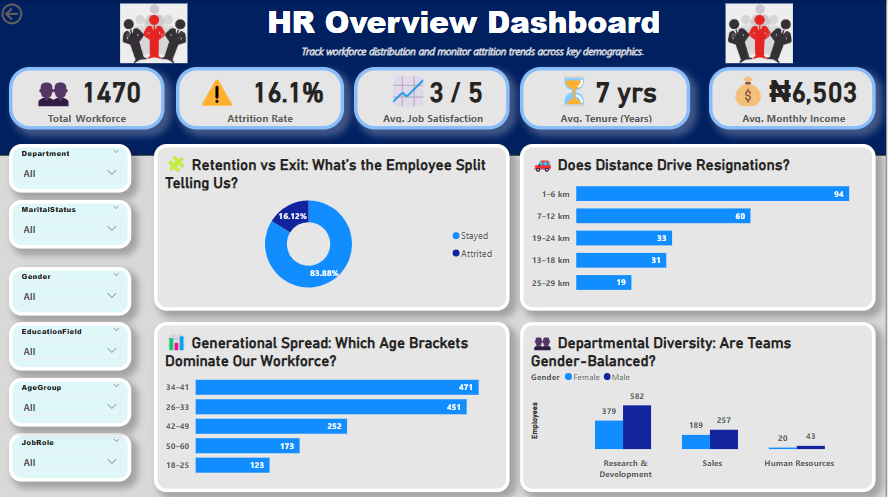

What the dashboard file says about the page in this screenshot:
{"tool":"powerbi","page":{"name":"Workforce Overview","canvas":[1280,720],"ordinal":0},"visuals":[{"type":"card","fields":{"Values":["HR Analytics Data.Total_Workforce"]},"box":[16,96,224,90],"z":0},{"type":"card","fields":{"Values":["HR Analytics Data.Avg_MonthlyIncome_Formatted"]},"box":[1024,96,240,90],"z":1000},{"type":"card","fields":{"Values":["HR Analytics Data.Avg_JobSatisfaction_Formatted"]},"box":[512,96,224,90],"z":2000},{"type":"card","fields":{"Values":["HR Analytics Data.Avg_YearsAtCompany_Formatted"]},"box":[752,96,245,90],"z":3000},{"type":"card","fields":{"Values":["HR Analytics Data.Attrition_Rate_Formatted"]},"box":[256,96,242,90],"z":4000},{"type":"donutChart","title":"🧩 Retention vs Exit: What’s the Employee Split Telling Us?","fields":{"Y":["Sum(HR Analytics Data.EmployeeCount)"],"Category":["HR Analytics Data.AttritionStatus"]},"box":[224,208,512,240],"z":5000},{"type":"clusteredColumnChart","title":"👥 Departmental Diversity: Are Teams Gender-Balanced?","fields":{"Y":["Count(HR Analytics Data.EmployeeNumber)"],"Category":["HR Analytics Data.Department"],"Series":["HR Analytics Data.Gender"]},"box":[752,464,512,245],"z":6000},{"type":"actionButton","box":[0,0,100,40],"z":7000},{"type":"slicer","fields":{"Values":["HR Analytics Data.Department"]},"box":[16,208,176,70],"z":8000},{"type":"slicer","fields":{"Values":["HR Analytics Data.Gender"]},"box":[16,384,176,70],"z":9000},{"type":"slicer","fields":{"Values":["HR Analytics Data.JobRole"]},"box":[16,624,176,70],"z":10000},{"type":"slicer","fields":{"Values":["HR Analytics Data.EducationField"]},"box":[16,464,176,70],"z":11000},{"type":"slicer","fields":{"Values":["HR Analytics Data.AgeGroup"]},"box":[16,544,176,70],"z":12000},{"type":"slicer","fields":{"Values":["HR Analytics Data.MaritalStatus"]},"box":[16,288,176,70],"z":13000},{"type":"clusteredBarChart","title":"🚗 Does Distance Drive Resignations?","fields":{"Category":["HR Analytics Data.Distance Bin"],"Y":["Sum(HR Analytics Data.Attrited Count)"]},"box":[752,208,512,240],"z":14000},{"type":"clusteredBarChart","title":"📊 Generational Spread: Which Age Brackets Dominate Our Workforce?","fields":{"Category":["HR Analytics Data.AgeGroup"],"Y":["Count(HR Analytics Data.EmployeeNumber)"]},"box":[224,464,512,245],"z":15000},{"type":"textbox","box":[352,0,624,80],"z":16000,"group":"g2"},{"type":"textbox","box":[432,64,544,32],"z":17000,"group":"g2"},{"type":"image","box":[1040,0,112,96],"z":17004},{"type":"group","id":"g1","title":"Group 1","box":[352,0,624,96],"z":17005},{"type":"image","box":[160,0,128,96],"z":17006},{"type":"group","id":"g2","title":"Group 2","box":[352,0,624,96],"z":17007,"group":"g1"}]}

Visuals, with their boxes in screenshot pixels (x1, y1, x2, y2), scaled from the page's 1280x720 canvas onto the 888x497 screenshot:
card - HR Analytics Data.Total_Workforce: pyautogui.locateOnScreen(11, 66, 166, 128)
card - HR Analytics Data.Avg_MonthlyIncome_Formatted: pyautogui.locateOnScreen(710, 66, 877, 128)
card - HR Analytics Data.Avg_JobSatisfaction_Formatted: pyautogui.locateOnScreen(355, 66, 511, 128)
card - HR Analytics Data.Avg_YearsAtCompany_Formatted: pyautogui.locateOnScreen(522, 66, 692, 128)
card - HR Analytics Data.Attrition_Rate_Formatted: pyautogui.locateOnScreen(178, 66, 345, 128)
"🧩 Retention vs Exit: What’s the Employee Split Telling Us?" donutChart: pyautogui.locateOnScreen(155, 144, 511, 309)
"👥 Departmental Diversity: Are Teams Gender-Balanced?" clusteredColumnChart: pyautogui.locateOnScreen(522, 320, 877, 489)
actionButton: pyautogui.locateOnScreen(0, 0, 69, 28)
slicer - HR Analytics Data.Department: pyautogui.locateOnScreen(11, 144, 133, 192)
slicer - HR Analytics Data.Gender: pyautogui.locateOnScreen(11, 265, 133, 313)
slicer - HR Analytics Data.JobRole: pyautogui.locateOnScreen(11, 431, 133, 479)
slicer - HR Analytics Data.EducationField: pyautogui.locateOnScreen(11, 320, 133, 369)
slicer - HR Analytics Data.AgeGroup: pyautogui.locateOnScreen(11, 376, 133, 424)
slicer - HR Analytics Data.MaritalStatus: pyautogui.locateOnScreen(11, 199, 133, 247)
"🚗 Does Distance Drive Resignations?" clusteredBarChart: pyautogui.locateOnScreen(522, 144, 877, 309)
"📊 Generational Spread: Which Age Brackets Dominate Our Workforce?" clusteredBarChart: pyautogui.locateOnScreen(155, 320, 511, 489)
textbox: pyautogui.locateOnScreen(244, 0, 677, 55)
textbox: pyautogui.locateOnScreen(300, 44, 677, 66)
image: pyautogui.locateOnScreen(722, 0, 799, 66)
"Group 1" group: pyautogui.locateOnScreen(244, 0, 677, 66)
image: pyautogui.locateOnScreen(111, 0, 200, 66)
"Group 2" group: pyautogui.locateOnScreen(244, 0, 677, 66)
